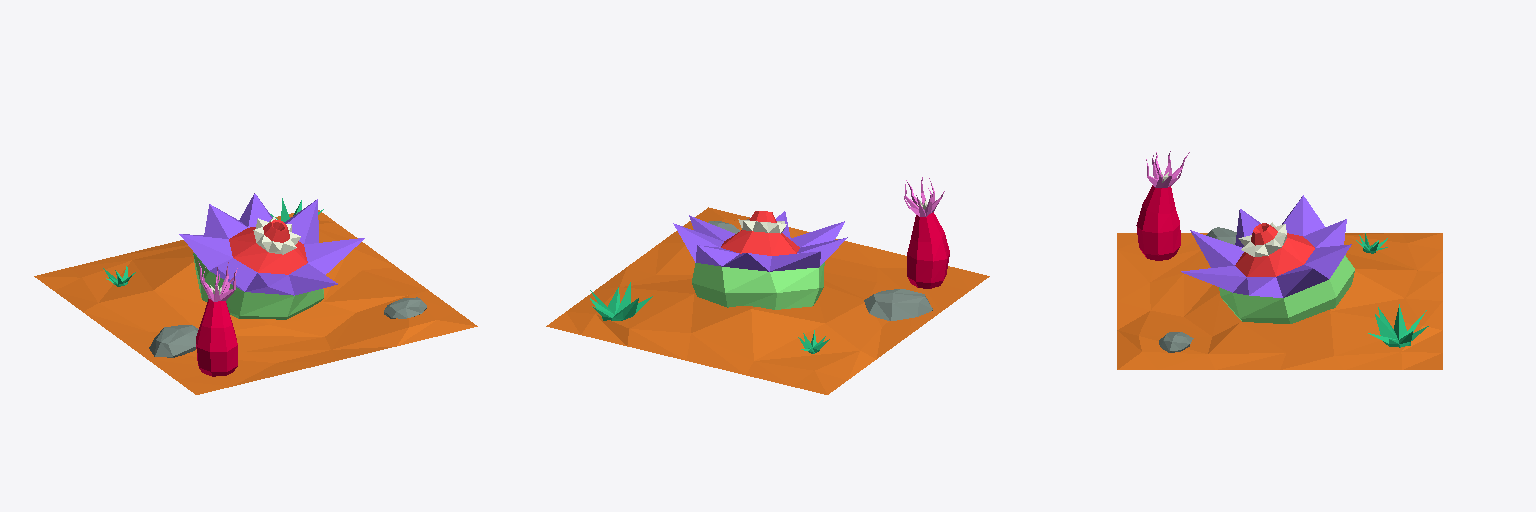
3 views of the same model, side by side, from view 1: azimuth 30°, elevation 25°; view 2: azimuth 150°, elevation 25°; view 3: azimuth 270°, elevation 25° (orthographic).
Visible parts, largest first — view 1: Circle.017; view 2: Circle.017; view 3: Circle.017.
Part boxes in pixels (left/top/right/bottom): Circle.017: left=34, top=193, right=477, bottom=394; Circle.017: left=546, top=177, right=989, bottom=394; Circle.017: left=1117, top=151, right=1442, bottom=369.
Size of the model in its own units: 2 by 0.76 by 2.
1 materials, 1 textured.